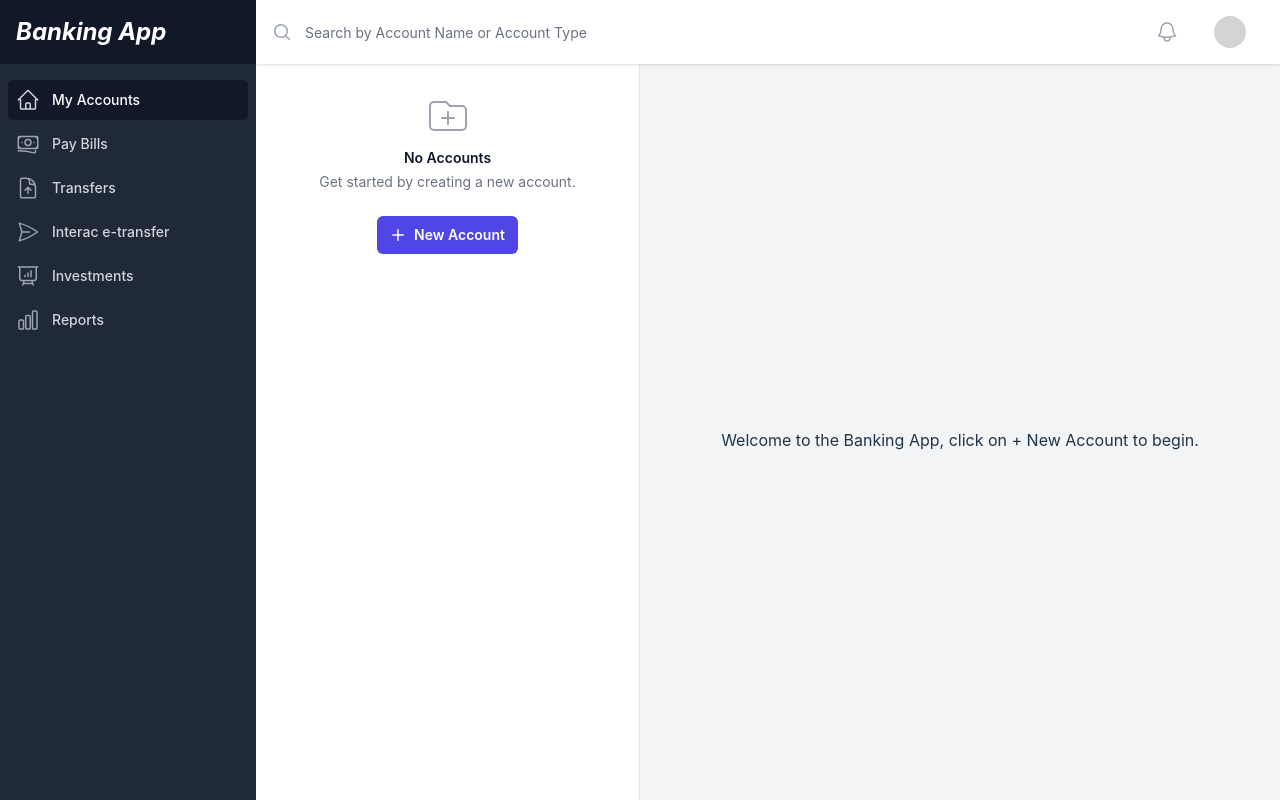
Test: transactions › should allow user to withdraw from bank account
The image size is (1280, 800).
Click the button with test id "newAccountSideBar".
click(448, 235)  # box [377,216,518,254]
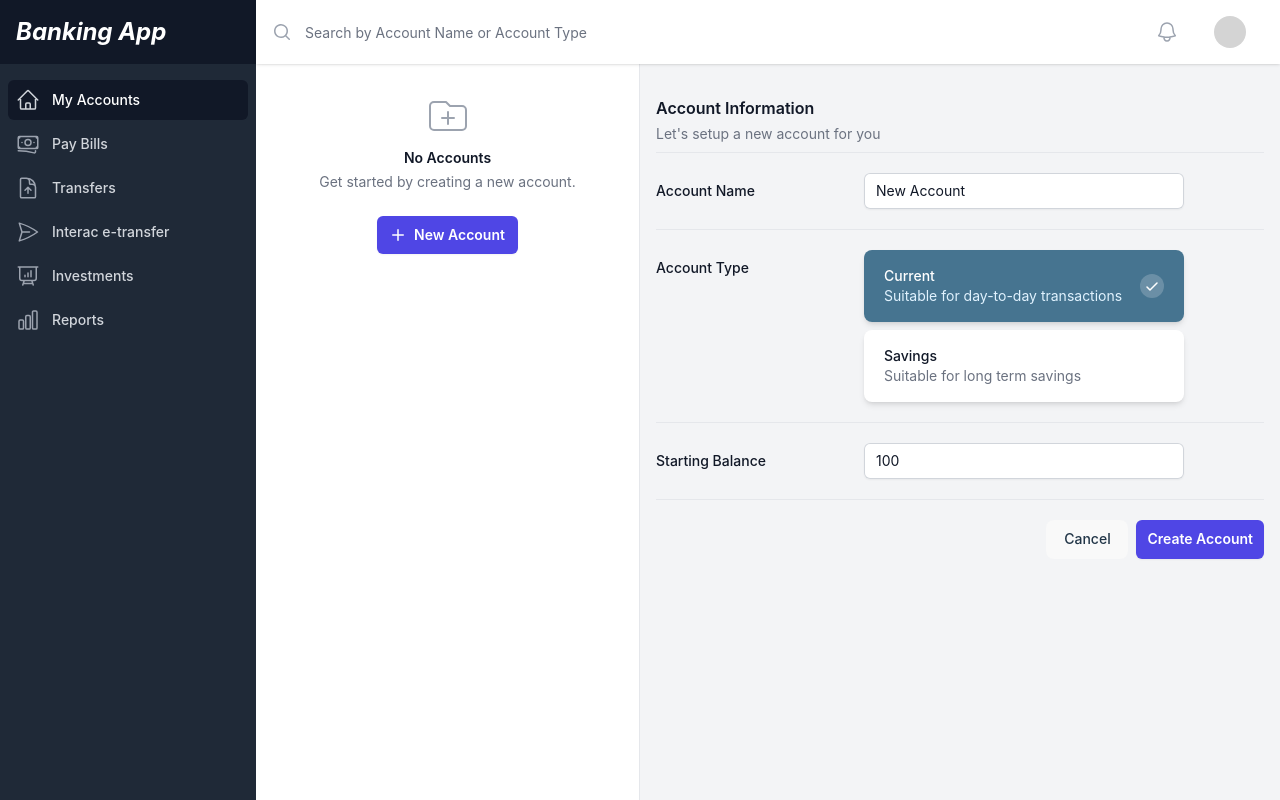
Expected: the heading "Account Information" is shown, [656,98,814,118]
Replace the text in the field with id "account-name" with "Test Account 1" at (1024, 191), box [864,173,1184,209]
Replace the text in the number field with id "starting-balance" with "1000" at (1024, 461), box [864,443,1184,479]
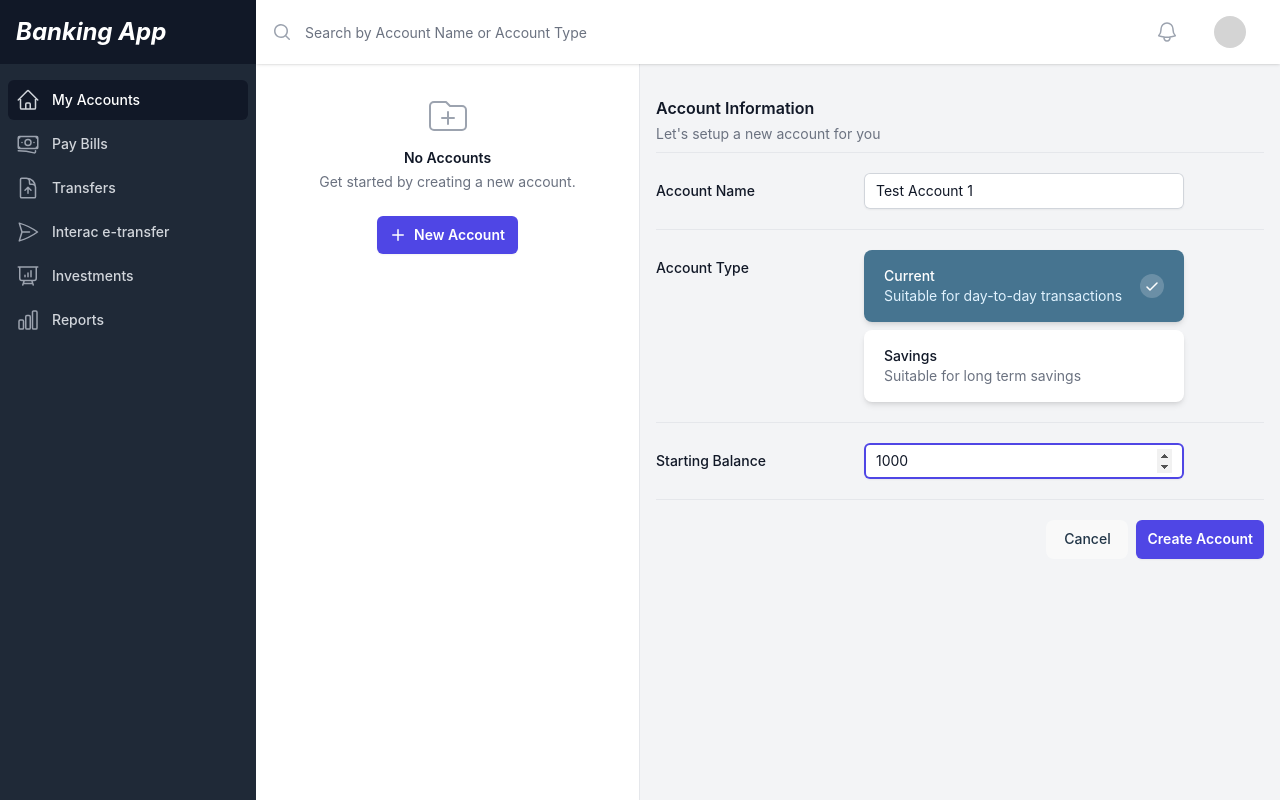
Click the button with test id "createAccount".
click(1201, 540)  # box [1137,520,1265,559]
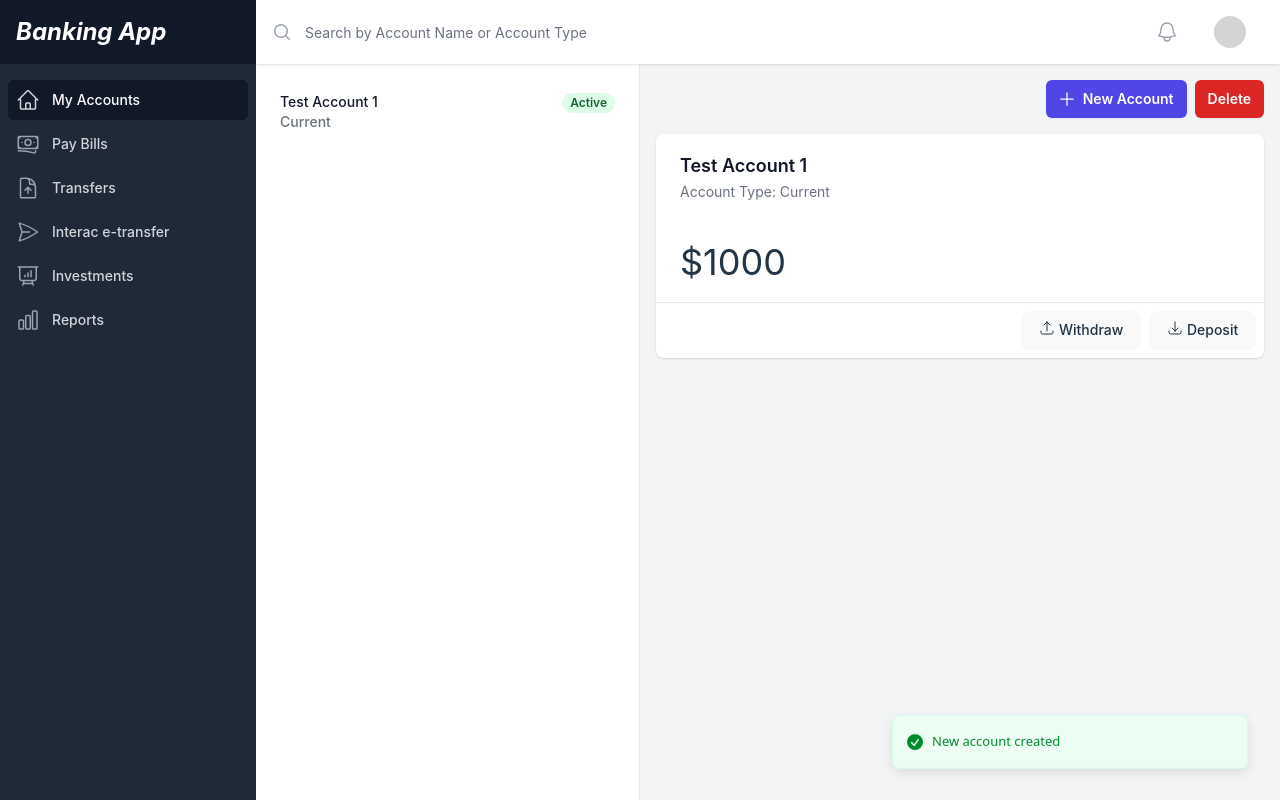
Click the button with test id "withdraw".
click(1081, 331)  # box [1021,311,1141,350]
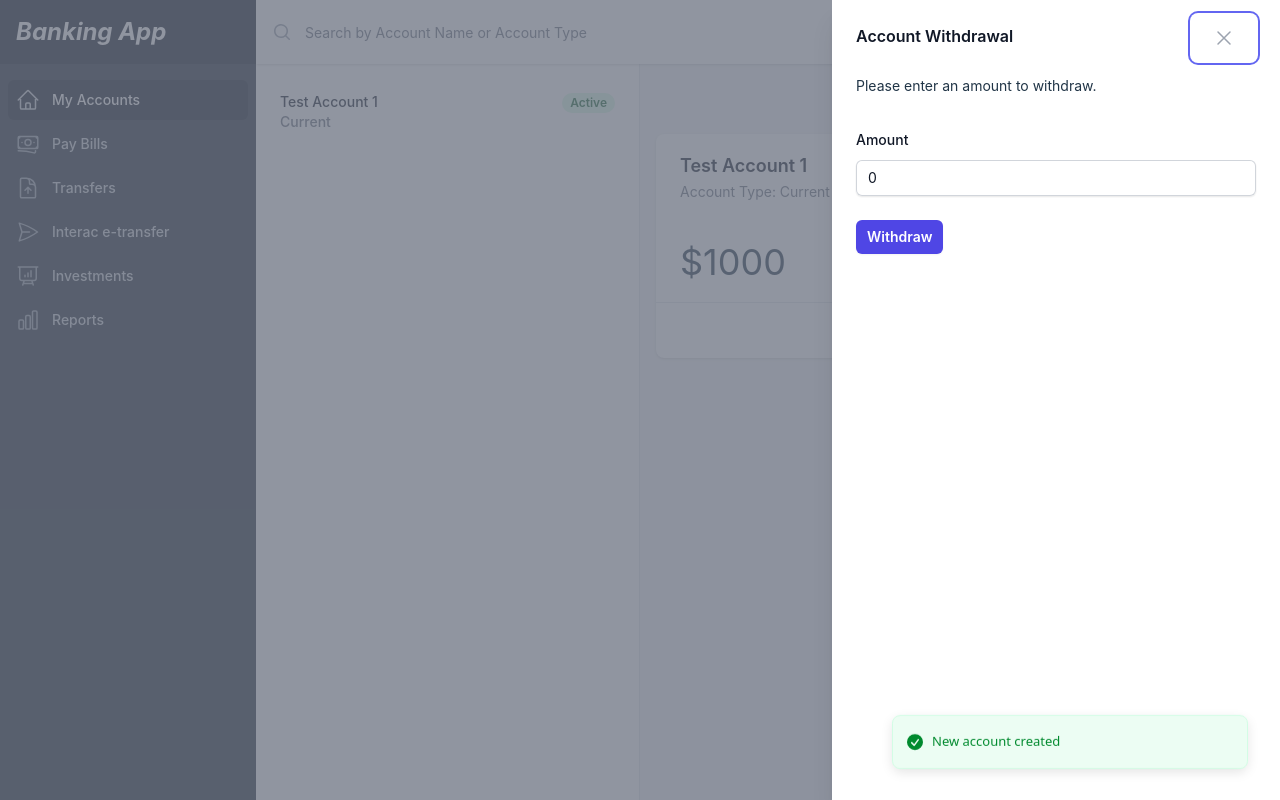
Replace the text in the number field with id "amount" with "100" at (1056, 178), box [856,160,1256,196]
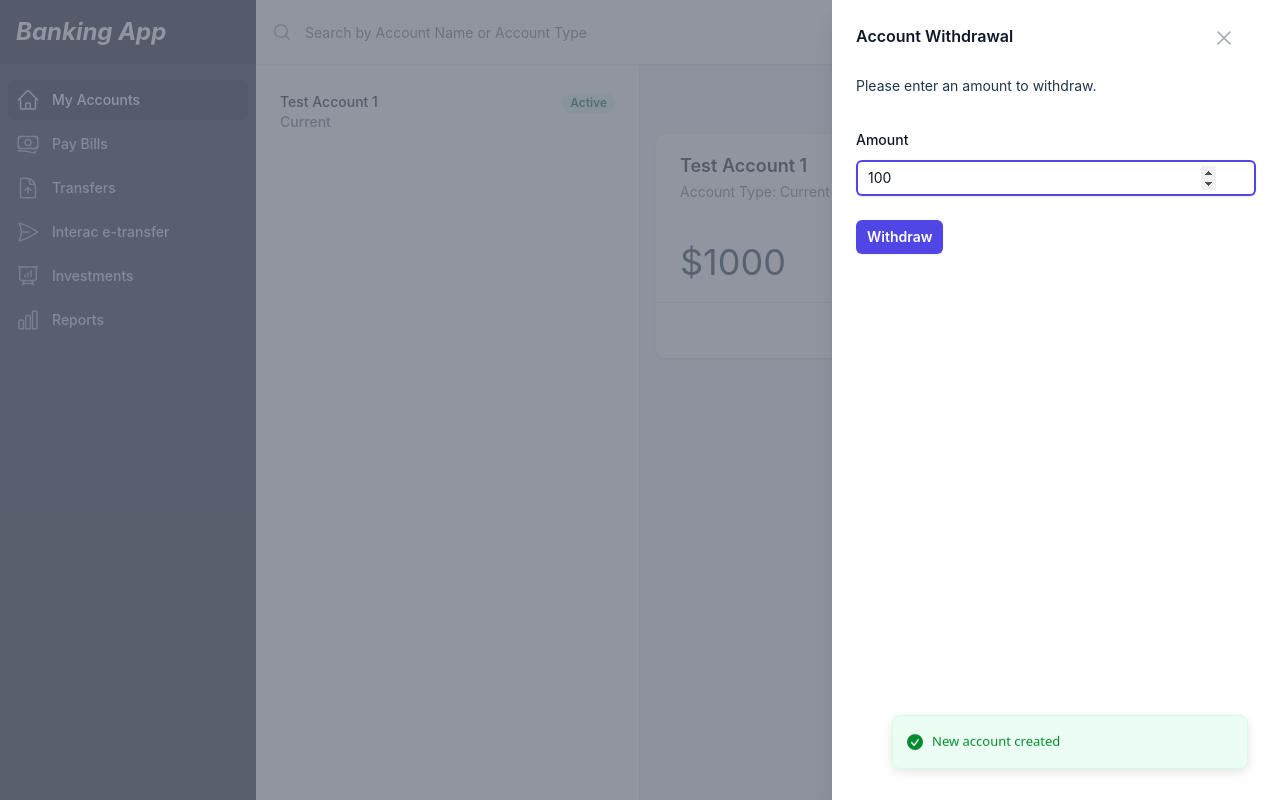
Click the button with test id "submitWithdraw".
click(900, 237)  # box [856,220,944,254]
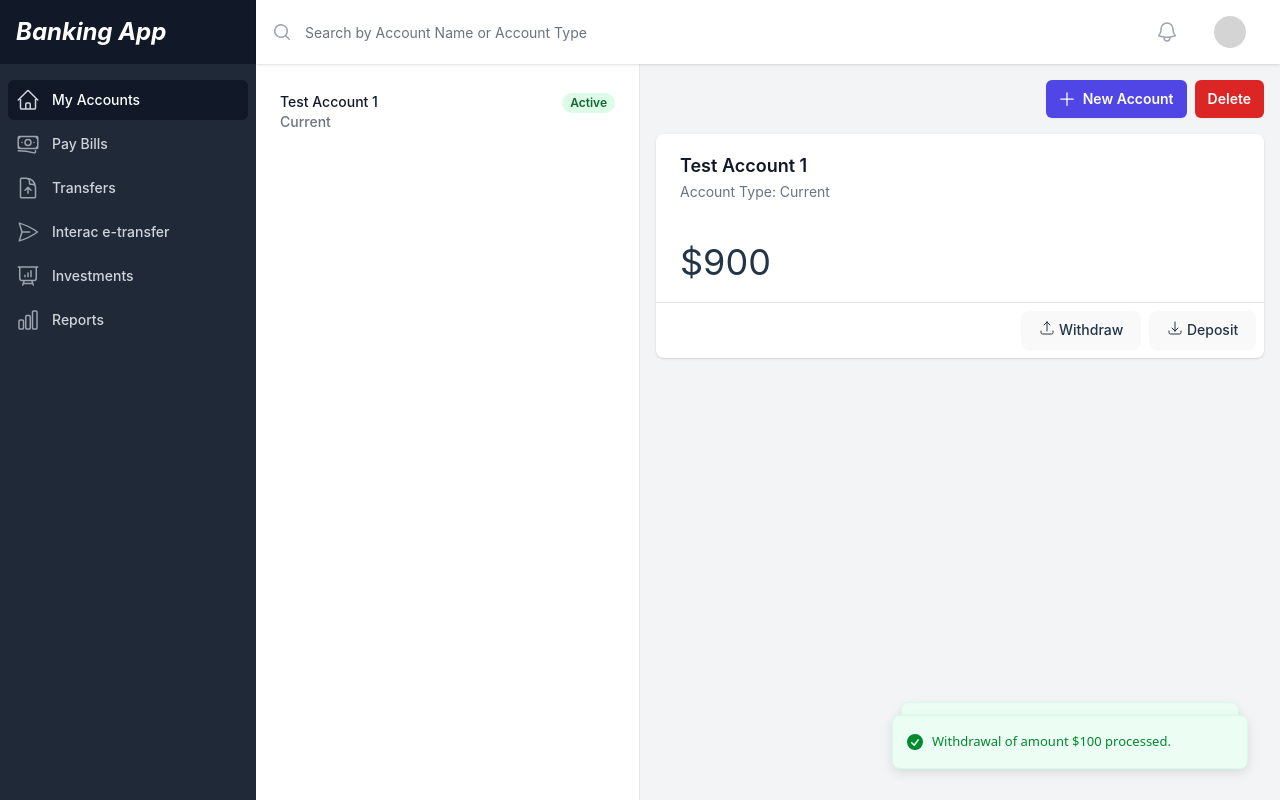
Now the text with test id "accountBalance" reads "$900", box [680,240,771,284]
